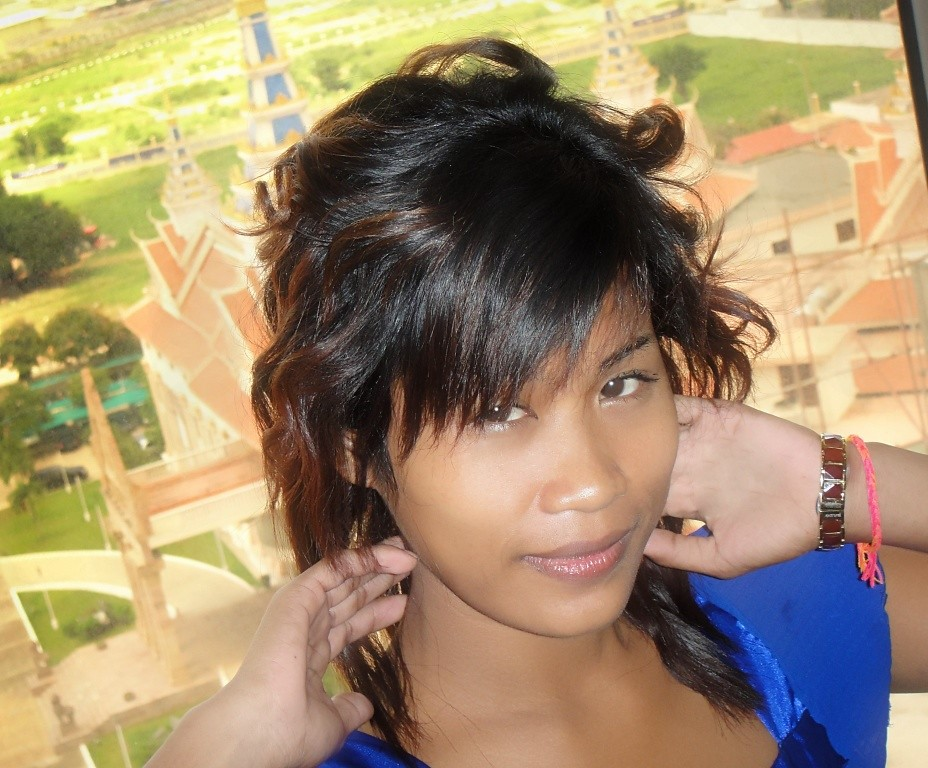face_no_mask: (314, 134, 681, 639)
